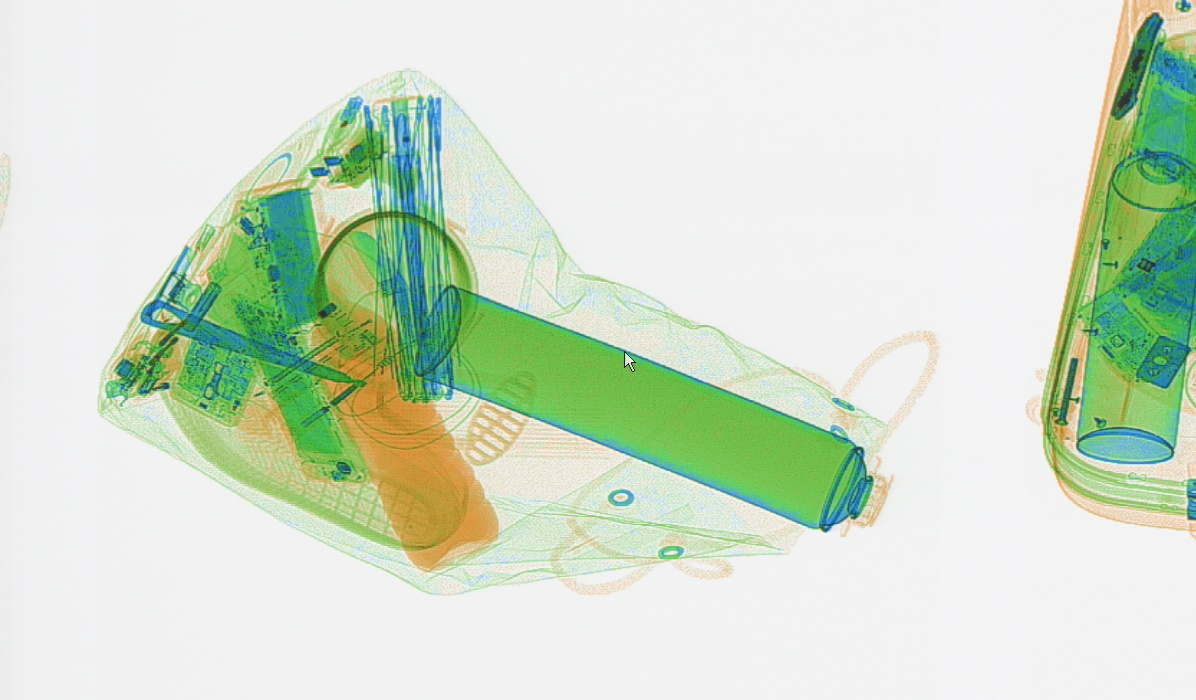knife: (1108, 10, 1162, 120)
lighter: (103, 350, 222, 406)
pressure: (413, 284, 872, 531), (1074, 151, 1193, 465)
